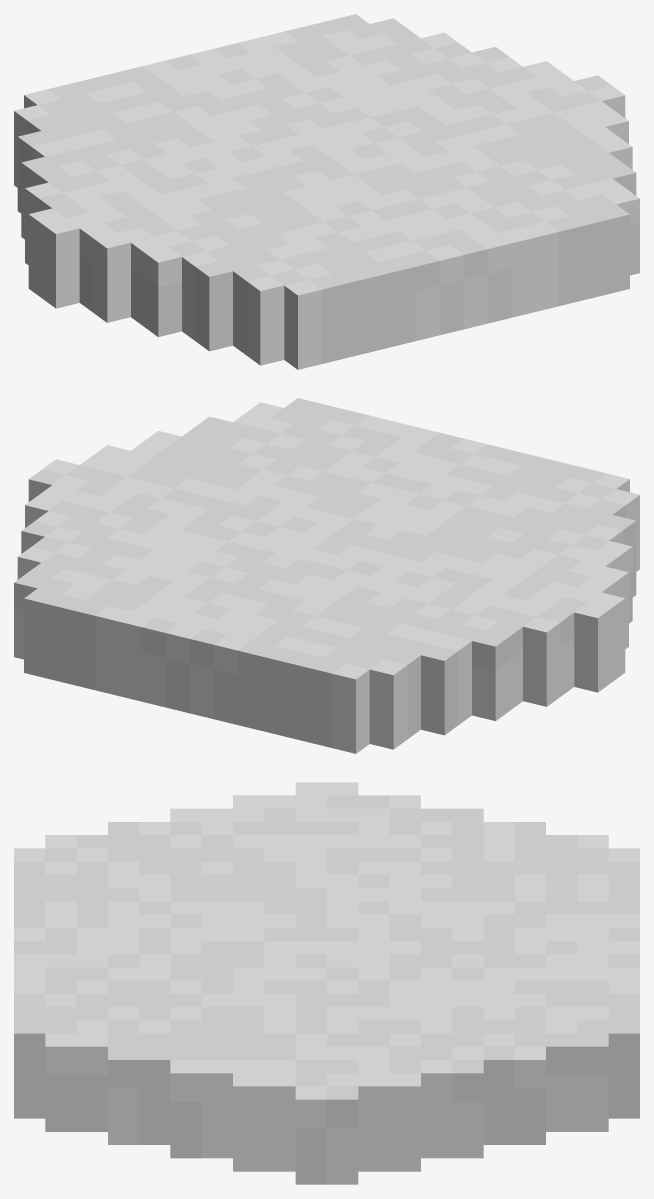
File: overworld-11-snow_3px.obj
The picture shows the model from 3 angles, top to bottom: view 1: azimuth 30°, elevation 25°; view 2: azimuth 150°, elevation 25°; view 3: azimuth 270°, elevation 25°; orthographic projection. The views are drawn at different scales.
Visible parts, largest first — view 1: snow_3px; view 2: snow_3px; view 3: snow_3px.
Part boxes in pixels (<box>): snow_3px: <box>14,14,639,369</box>; snow_3px: <box>14,398,639,753</box>; snow_3px: <box>14,782,639,1184</box>.
Size of the model in its own units: 2.4 by 0.3 by 2.
1 material, 1 textured.
